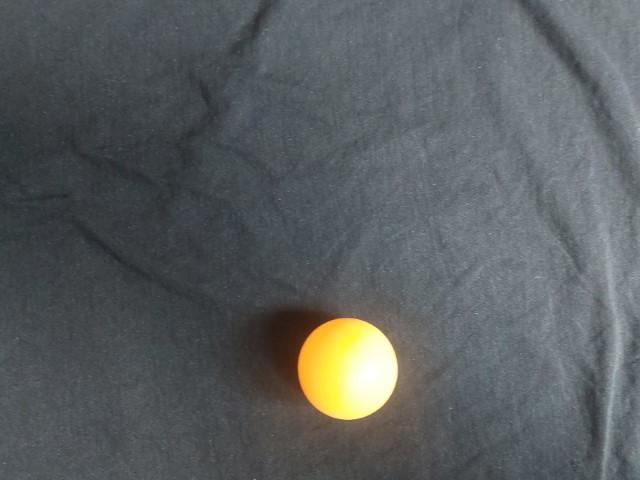oball: (235, 54, 351, 171)
